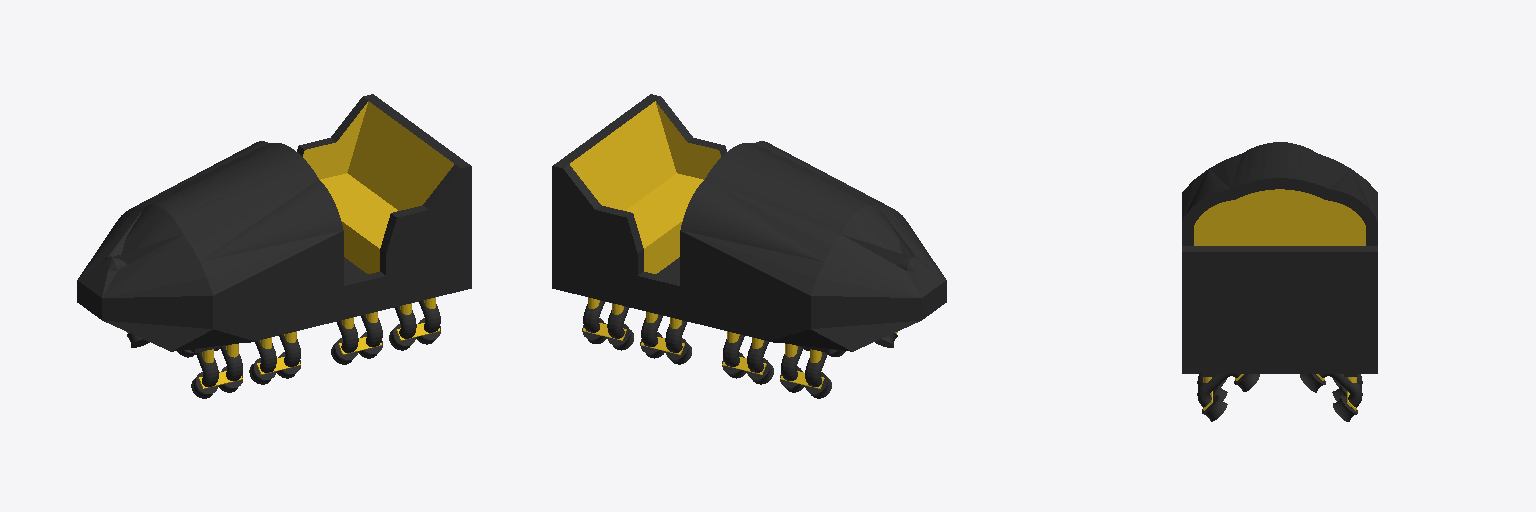
The model's file is Roller-Coaster.obj.
3 views of the same model, side by side, from view 1: azimuth 30°, elevation 25°; view 2: azimuth 150°, elevation 25°; view 3: azimuth 270°, elevation 25° (orthographic).
Visible parts, largest first — view 1: Mesh1 Group2 Group1 Model, Mesh40 Group3 Group1 Model, Mesh75 Group3 Group1 Model, Mesh77 Group3 Group1 Model, Mesh73 Group3 Group1 Model; view 2: Mesh1 Group2 Group1 Model, Mesh76 Group3 Group1 Model, Mesh72 Group3 Group1 Model, Mesh74 Group3 Group1 Model, Mesh63 Group3 Group1 Model; view 3: Mesh1 Group2 Group1 Model, Mesh63 Group3 Group1 Model, Mesh73 Group3 Group1 Model.
Part boxes in pixels (x1,y1,x2,y2): Mesh1 Group2 Group1 Model: (77,94,471,351); Mesh40 Group3 Group1 Model: (196,346,242,388); Mesh75 Group3 Group1 Model: (337,314,382,354); Mesh77 Group3 Group1 Model: (255,334,300,374); Mesh73 Group3 Group1 Model: (394,300,440,340); Mesh1 Group2 Group1 Model: (552,94,946,351); Mesh76 Group3 Group1 Model: (780,346,827,388); Mesh72 Group3 Group1 Model: (641,314,686,354); Mesh74 Group3 Group1 Model: (722,334,768,374); Mesh63 Group3 Group1 Model: (583,300,629,340); Mesh1 Group2 Group1 Model: (1182,142,1377,373); Mesh63 Group3 Group1 Model: (1316,374,1362,410); Mesh73 Group3 Group1 Model: (1197,374,1243,410).
Bounding box in the file's own units: 93.67 × 52 × 48.